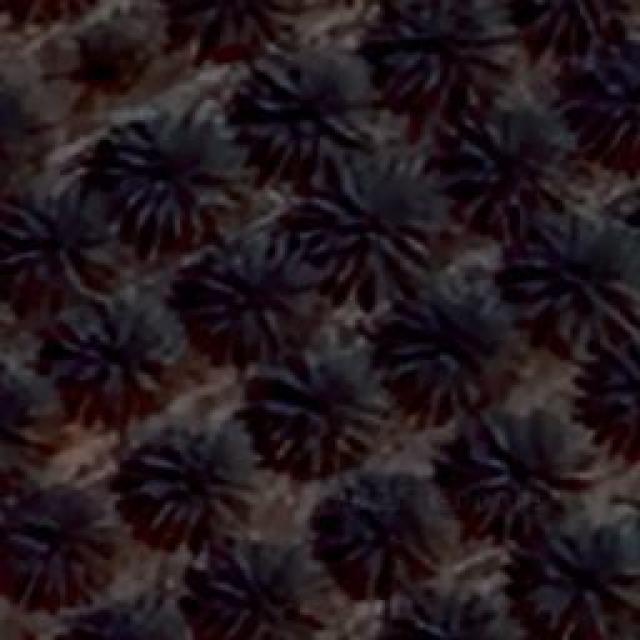PalmTree: (365, 275, 515, 425), (172, 231, 316, 354), (108, 112, 242, 238), (260, 340, 388, 468), (512, 210, 638, 340), (322, 468, 452, 592), (300, 160, 428, 285), (446, 88, 569, 214), (130, 418, 260, 532), (375, 0, 520, 102), (50, 291, 175, 401), (530, 528, 638, 638), (248, 59, 360, 162), (19, 14, 111, 138), (468, 420, 578, 520), (0, 488, 105, 592), (0, 195, 110, 290), (157, 0, 314, 62), (572, 52, 640, 186), (587, 319, 640, 462), (514, 0, 640, 60), (368, 590, 512, 638), (210, 552, 285, 638), (0, 366, 55, 482), (74, 14, 144, 88), (71, 594, 184, 638)
